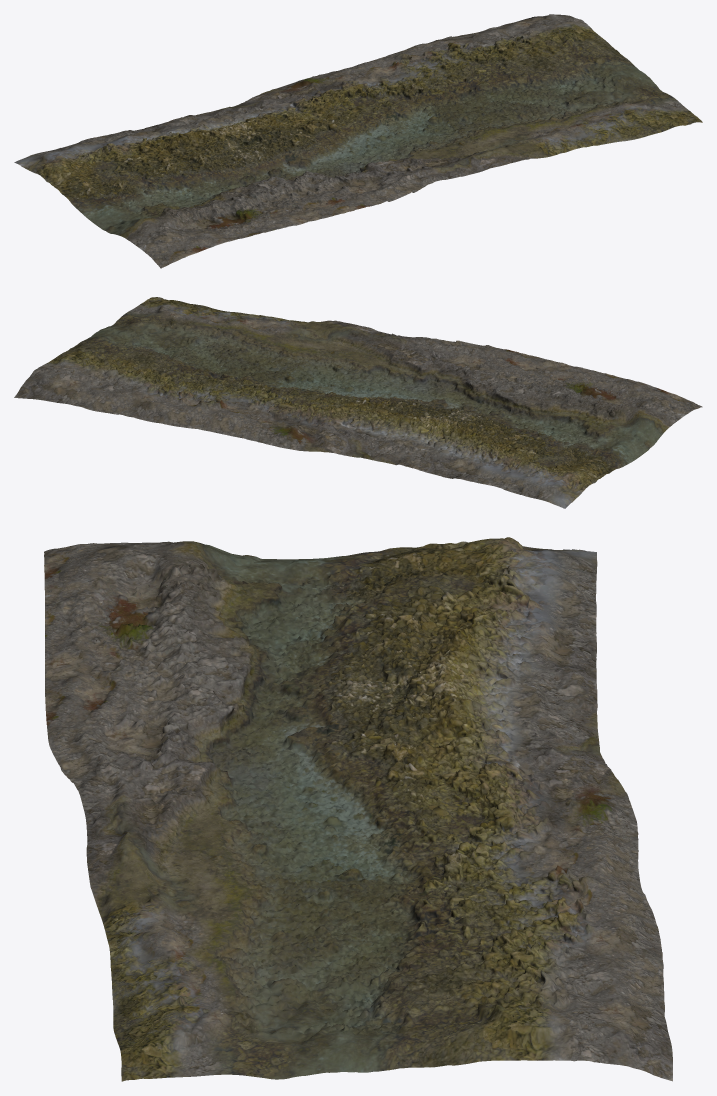
File: shore.glb
The picture shows the model from 3 angles, top to bottom: view 1: azimuth 30°, elevation 25°; view 2: azimuth 150°, elevation 25°; view 3: azimuth 270°, elevation 25°; orthographic projection. The views are drawn at different scales.
Parts seen in each view (by area): view 1: coast_line_02; view 2: coast_line_02; view 3: coast_line_02.
Boxes of the visible parts, left/top/right/bottom form: coast_line_02: left=14, top=14, right=702, bottom=268; coast_line_02: left=14, top=297, right=702, bottom=508; coast_line_02: left=44, top=537, right=672, bottom=1081.
Bounding box in the file's own units: 45.64 × 2.28 × 23.28.
1 material, 1 textured.
